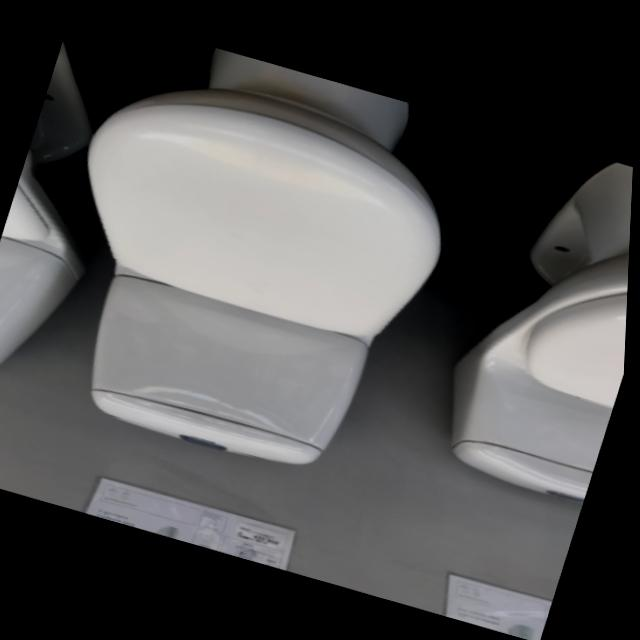toilet: (10, 20, 486, 494), (426, 133, 636, 503)
